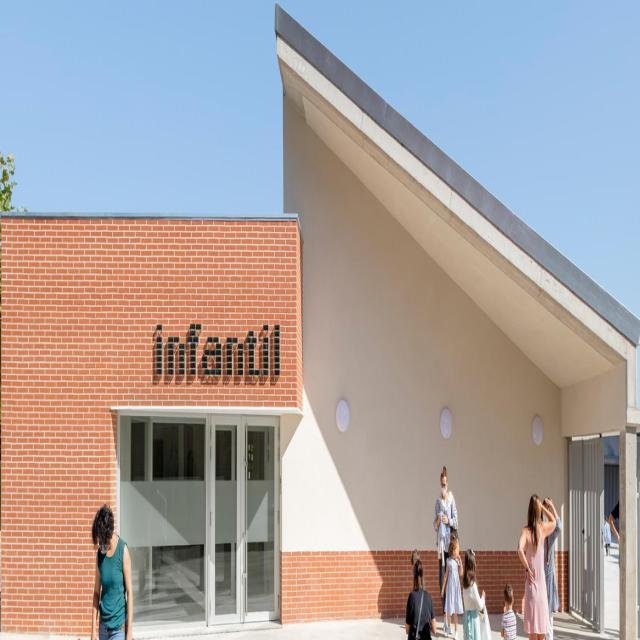door: (204, 411, 280, 618)
window: (118, 410, 205, 619)
